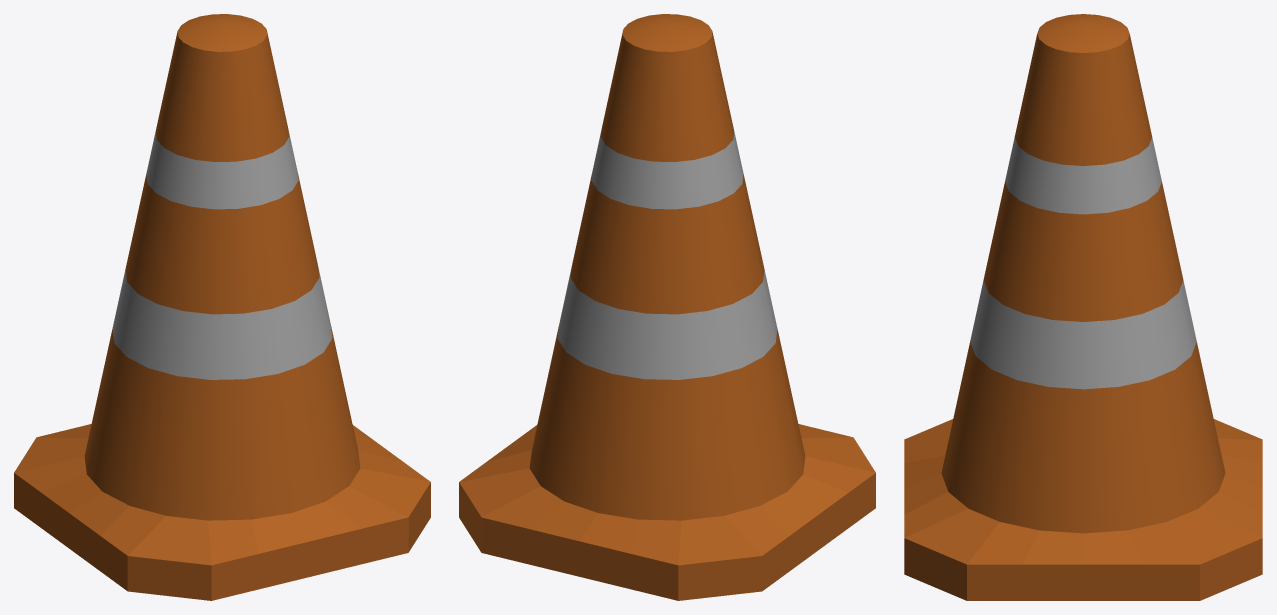
3 views of the same model, side by side, from view 1: azimuth 30°, elevation 25°; view 2: azimuth 150°, elevation 25°; view 3: azimuth 270°, elevation 25° (orthographic). The views are drawn at different scales.
Visible parts, largest first — view 1: pCylinder15; view 2: pCylinder15; view 3: pCylinder15.
Part boxes in pixels (x1,y1,x2,y2): pCylinder15: (14,14,430,600); pCylinder15: (459,14,875,600); pCylinder15: (904,14,1262,600).
Size of the model in its own units: 0.1113 by 0.1721 by 0.1113.
